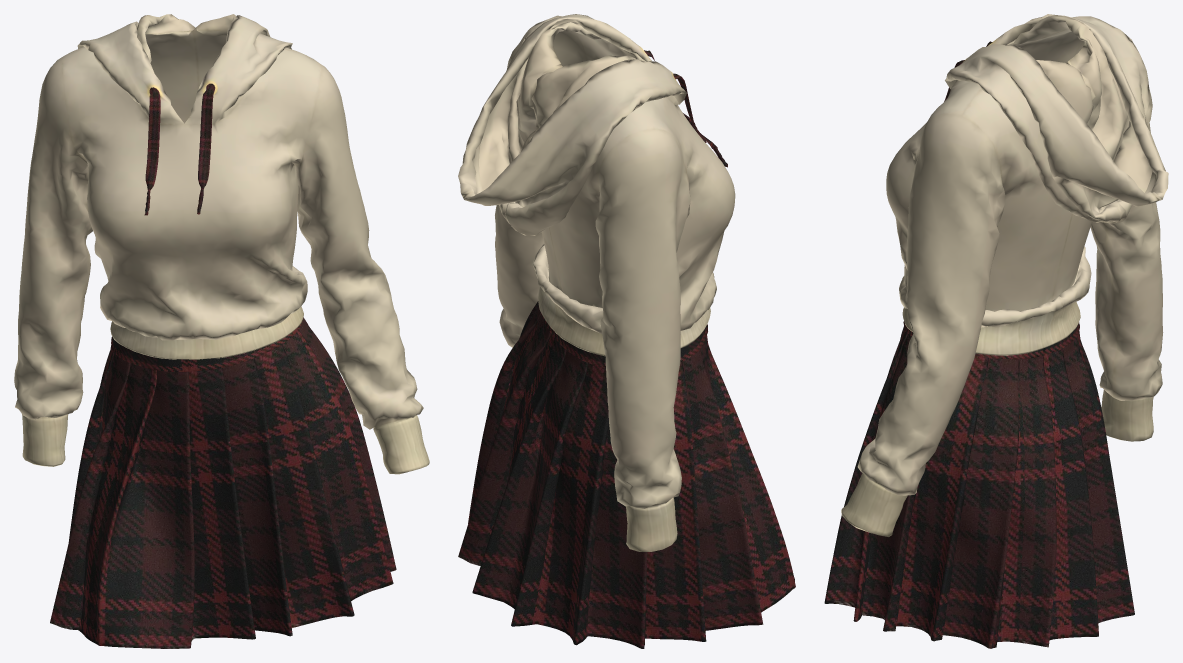
The model's file is hoodie_and_skirt-optimized.glb.
The picture shows the model from 3 angles, left to right: view 1: azimuth 30°, elevation 25°; view 2: azimuth 150°, elevation 25°; view 3: azimuth 270°, elevation 25°; orthographic projection. The views are drawn at different scales.
Parts seen in each view (by area): view 1: polySurface46_parker_0, polySurface21_skirt_0; view 2: polySurface46_parker_0, polySurface21_skirt_0; view 3: polySurface46_parker_0, polySurface21_skirt_0.
Boxes of the visible parts, x1=… form: polySurface46_parker_0: x1=14, y1=14, x2=429, y2=474; polySurface21_skirt_0: x1=50, y1=317, x2=396, y2=648; polySurface46_parker_0: x1=458, y1=14, x2=735, y2=551; polySurface21_skirt_0: x1=458, y1=301, x2=795, y2=648; polySurface46_parker_0: x1=841, y1=14, x2=1168, y2=536; polySurface21_skirt_0: x1=824, y1=321, x2=1134, y2=648.
Bounding box in the file's own units: 2.55 × 4.42 × 2.38.
Materials: 2 (2 with a texture image).
